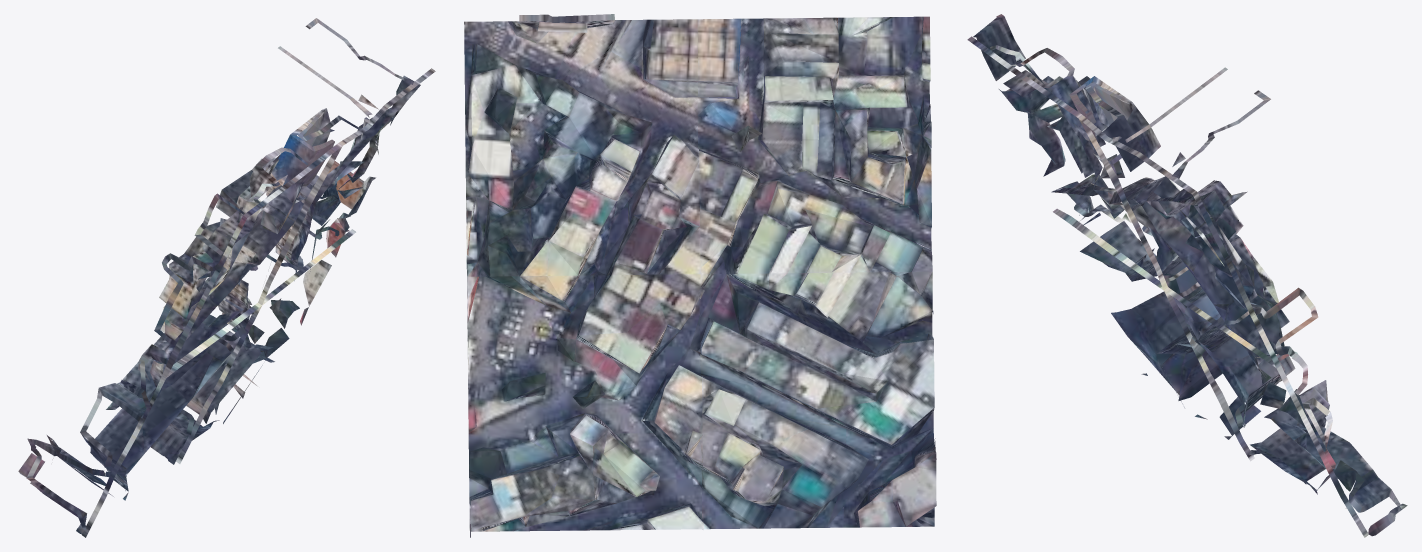
3 views of the same model, side by side, from view 1: azimuth 30°, elevation 25°; view 2: azimuth 150°, elevation 25°; view 3: azimuth 270°, elevation 25° (orthographic). The views are drawn at different scales.
Size of the model in its own units: 164 by 158 by 142.
1 material, 1 textured.
